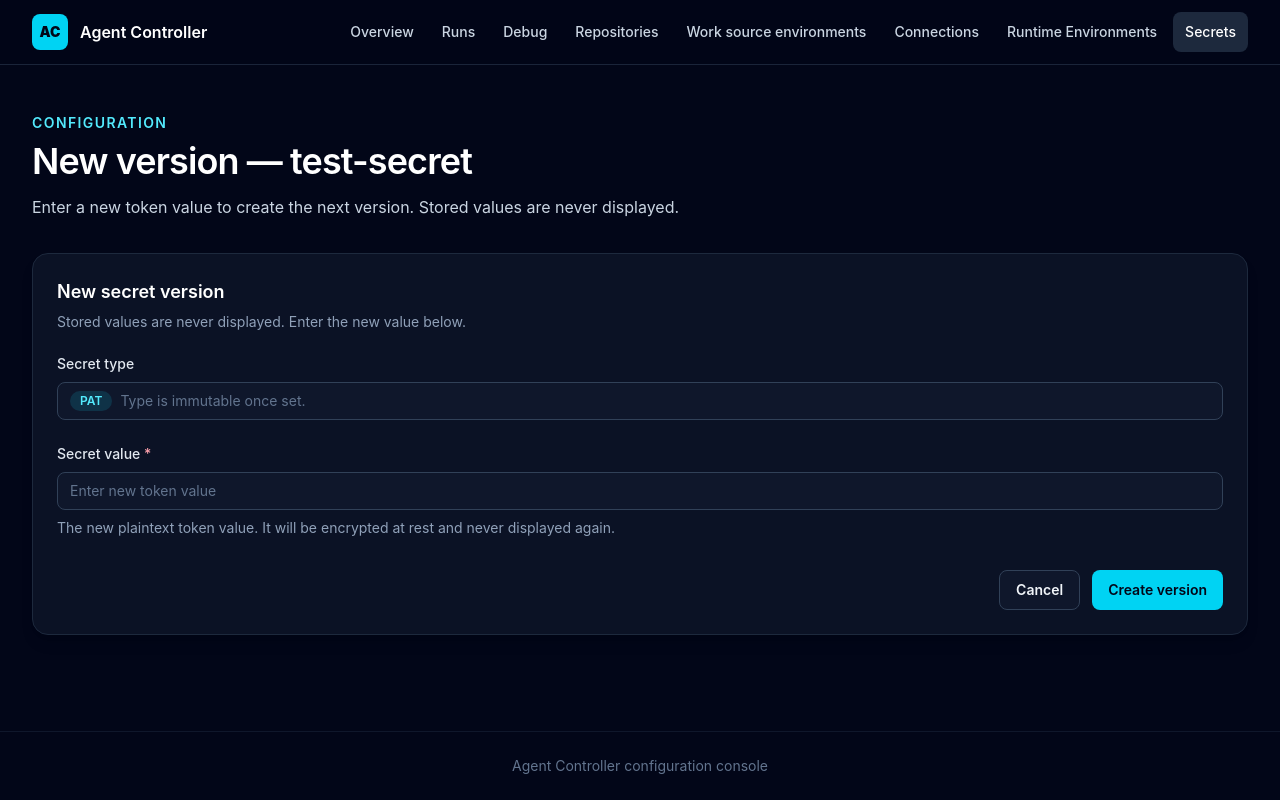
secret screens › blocks new-version submission with empty value and shows validation error
The image size is (1280, 800).
Expected: the heading "New secret version" is shown, [57, 281, 225, 302]
Click the button "Create version": x=1158, y=590 [1092, 570, 1223, 610]
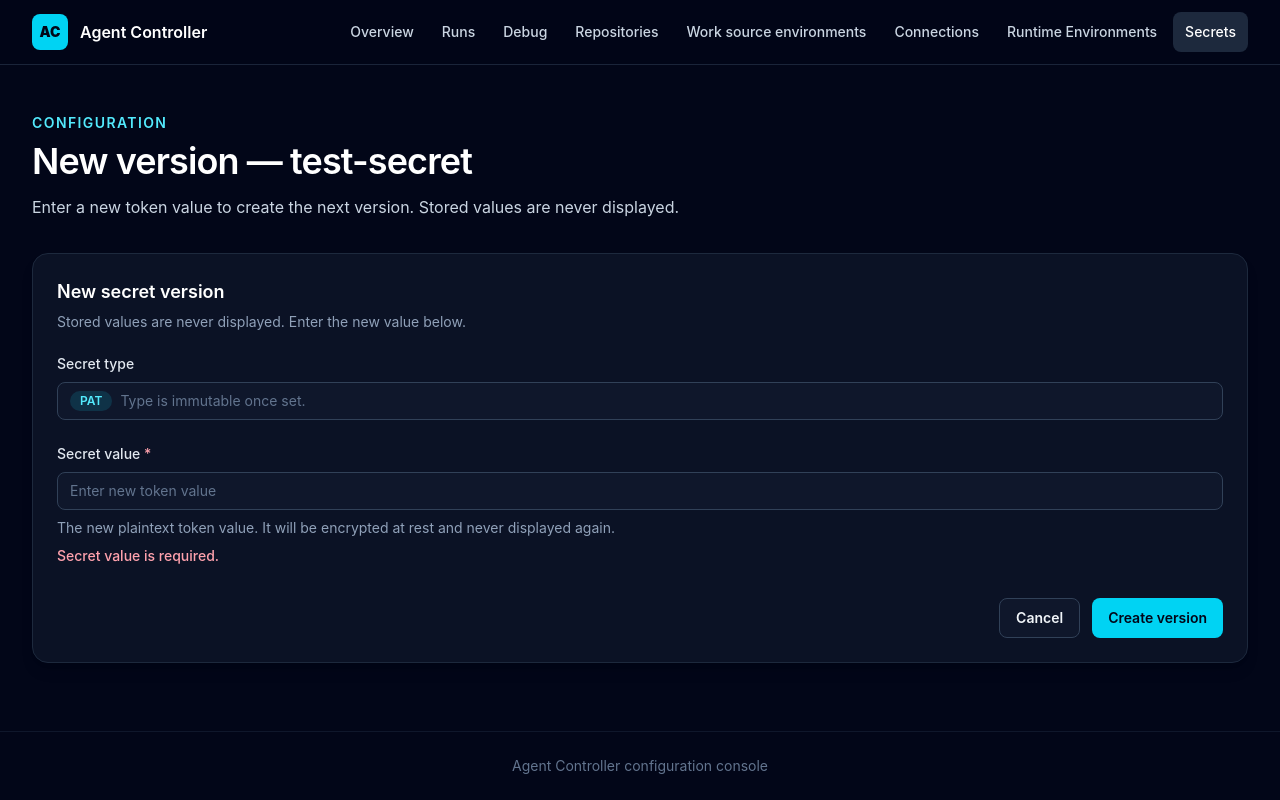
Expected: the text "Secret value is required." is shown, [57, 547, 219, 564]
